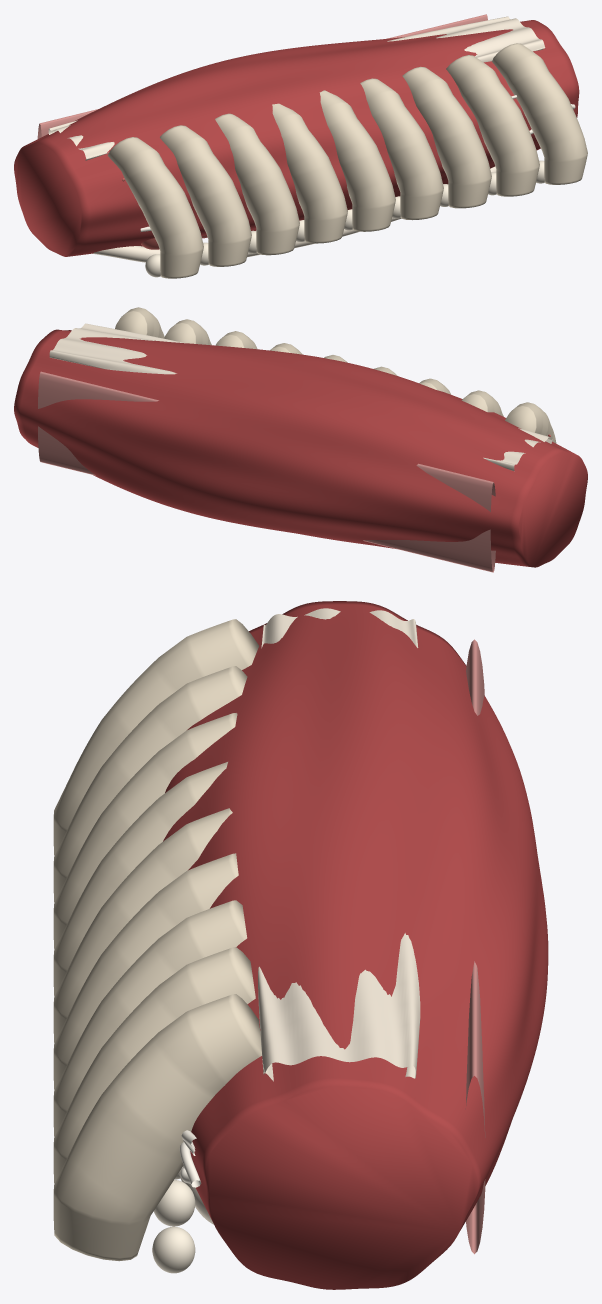
The model's file is Costilla.glb.
The picture shows the model from 3 angles, top to bottom: view 1: azimuth 30°, elevation 25°; view 2: azimuth 150°, elevation 25°; view 3: azimuth 270°, elevation 25°; orthographic projection. The views are drawn at different scales.
Parts seen in each view (by area): view 1: Costillar | Masa muscular principal, Costilla 9 | Hueso, Costilla 1 | Hueso, Costilla 8 | Hueso, Costilla 2 | Hueso, Costilla 7 | Hueso, Costilla 3 | Hueso, Costilla 6 | Hueso, Costilla 5 | Hueso, Costilla 4 | Hueso, Manto de grasa natural, Banda de grasa inferior (+1 smaller); view 2: Costillar | Masa muscular principal, Piel posterior, Manto de grasa natural, Costilla 1 | Hueso, Costilla 9 | Hueso, Costilla 8 | Hueso, Costilla 2 | Hueso, Costilla 7 | Hueso; view 3: Costillar | Masa muscular principal, Costilla 9 | Hueso, Manto de grasa natural, Costilla 8 | Hueso, Costilla 1 | Hueso, Costilla 7 | Hueso, Costilla 2 | Hueso, Costilla 6 | Hueso, Costilla 5 | Hueso, Costilla 3 | Hueso, Costilla 4 | Hueso, Piel posterior (+2 smaller).
Boxes of the visible parts, x1,y1,x2,y2 form: Costillar | Masa muscular principal: [14, 20, 579, 256]; Costilla 9 | Hueso: [492, 43, 587, 184]; Costilla 1 | Hueso: [107, 137, 203, 278]; Costilla 8 | Hueso: [446, 55, 539, 196]; Costilla 2 | Hueso: [160, 125, 251, 266]; Costilla 7 | Hueso: [402, 66, 491, 208]; Costilla 3 | Hueso: [215, 113, 299, 255]; Costilla 6 | Hueso: [360, 78, 443, 220]; Costilla 5 | Hueso: [319, 90, 395, 231]; Costilla 4 | Hueso: [272, 103, 347, 243]; Manto de grasa natural: [48, 16, 545, 160]; Banda de grasa inferior: [92, 166, 496, 262]; Costillar | Masa muscular principal: [14, 329, 587, 567]; Piel posterior: [38, 371, 495, 572]; Manto de grasa natural: [49, 323, 552, 471]; Costilla 1 | Hueso: [505, 402, 556, 443]; Costilla 9 | Hueso: [115, 307, 164, 338]; Costilla 8 | Hueso: [164, 319, 211, 345]; Costilla 2 | Hueso: [461, 390, 503, 416]; Costilla 7 | Hueso: [215, 331, 257, 349]; Costillar | Masa muscular principal: [163, 601, 548, 1289]; Costilla 9 | Hueso: [53, 994, 261, 1261]; Manto de grasa natural: [258, 608, 420, 1081]; Costilla 8 | Hueso: [53, 947, 255, 1183]; Costilla 1 | Hueso: [53, 619, 258, 855]; Costilla 7 | Hueso: [53, 900, 247, 1136]; Costilla 2 | Hueso: [53, 666, 247, 902]; Costilla 6 | Hueso: [53, 853, 238, 1090]; Costilla 5 | Hueso: [53, 808, 232, 1043]; Costilla 3 | Hueso: [53, 713, 237, 949]; Costilla 4 | Hueso: [53, 762, 227, 996]; Piel posterior: [465, 639, 485, 1254].
Size of the model in its own units: 2.56 by 0.7593 by 1.1.
